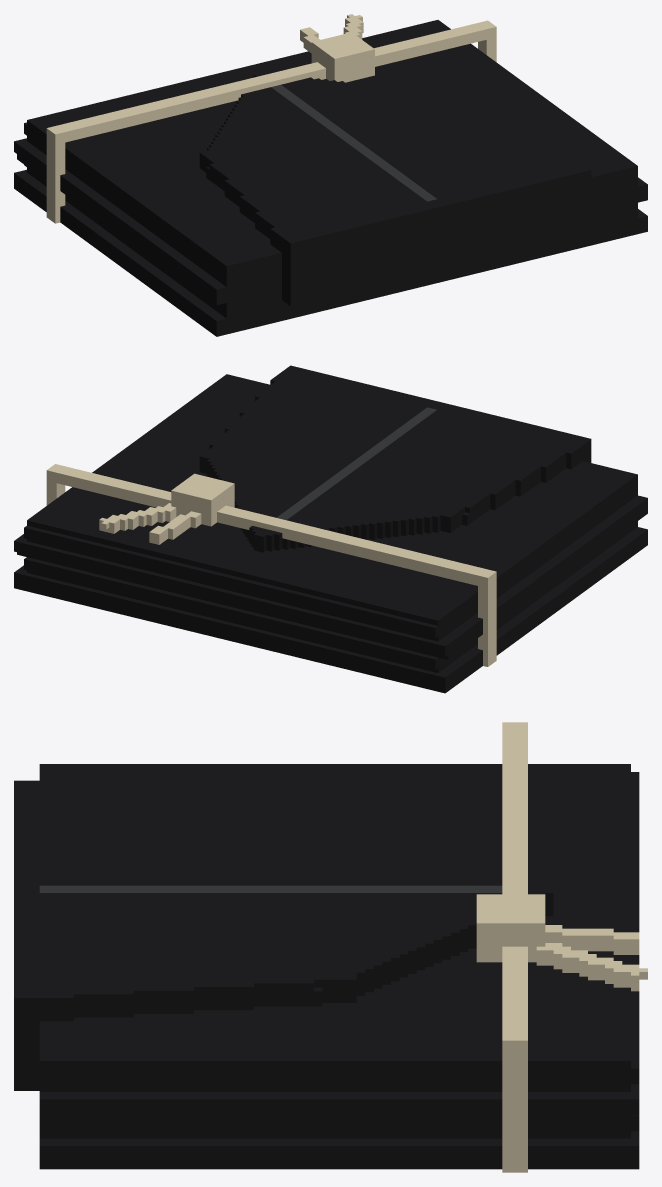
The model's file is grim_reaper_robe_faceless.glb.
3 renders of one model, top to bottom at view 1: azimuth 30°, elevation 25°; view 2: azimuth 150°, elevation 25°; view 3: azimuth 270°, elevation 25°, orthographic. The views are drawn at different scales.
Parts seen in each view (by area): view 1: grim_reaper_robe_faceless:compound; view 2: grim_reaper_robe_faceless:compound; view 3: grim_reaper_robe_faceless:compound.
Part boxes in pixels (left/top/right/bottom): grim_reaper_robe_faceless:compound: left=14, top=14, right=647, bottom=336; grim_reaper_robe_faceless:compound: left=14, top=365, right=647, bottom=693; grim_reaper_robe_faceless:compound: left=14, top=722, right=647, bottom=1172.
Bounding box in the file's own units: 0.352 × 0.08 × 0.296.
